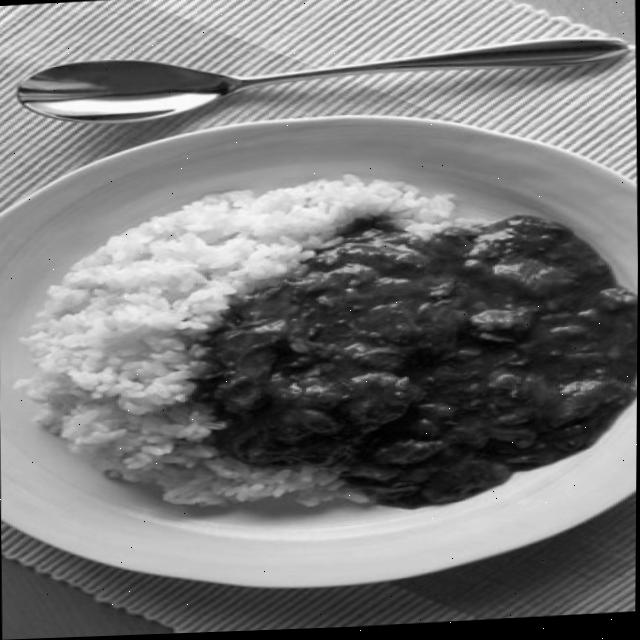牛肉菜式: (0, 102, 639, 612)
